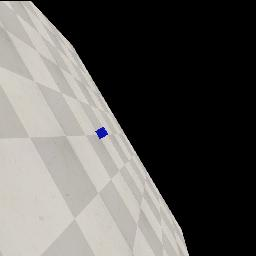box: (95, 127, 108, 139)
